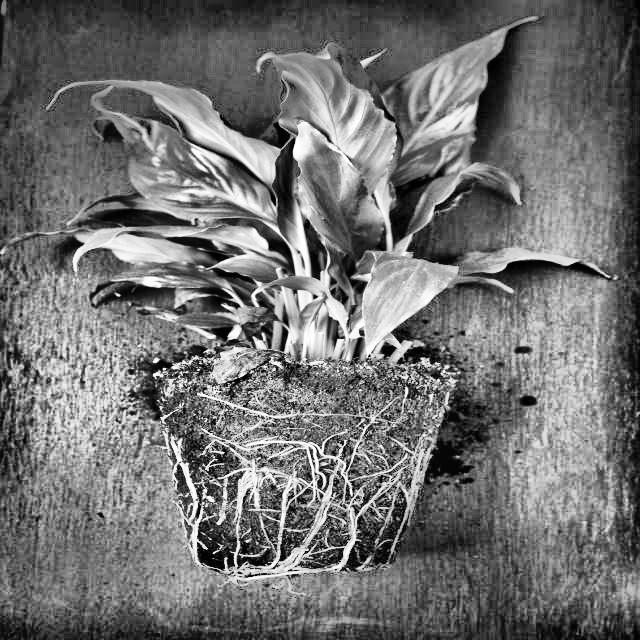plants: (12, 17, 596, 573), (119, 272, 213, 344)
